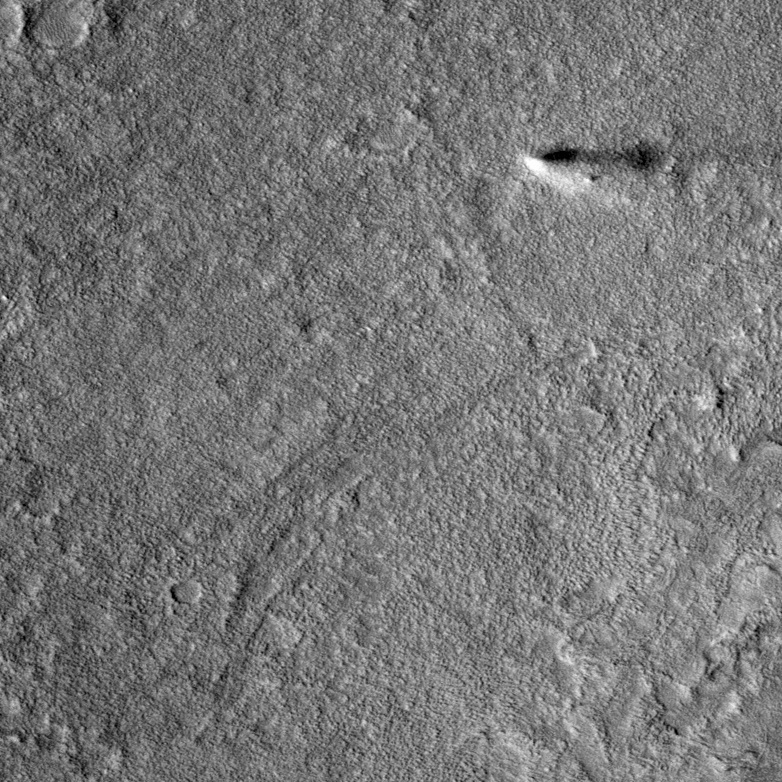dust_devil: (520, 138, 666, 204)
